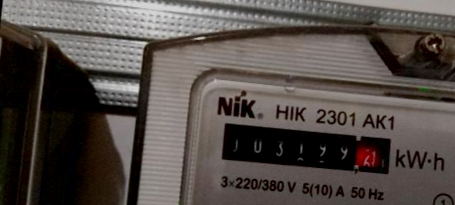0: (254, 133, 267, 153), (231, 131, 242, 150)
1: (298, 135, 309, 153)
3: (275, 135, 287, 156)
6: (363, 150, 374, 165)
9: (319, 136, 331, 157), (340, 140, 352, 159)
screen: (215, 109, 402, 182)
